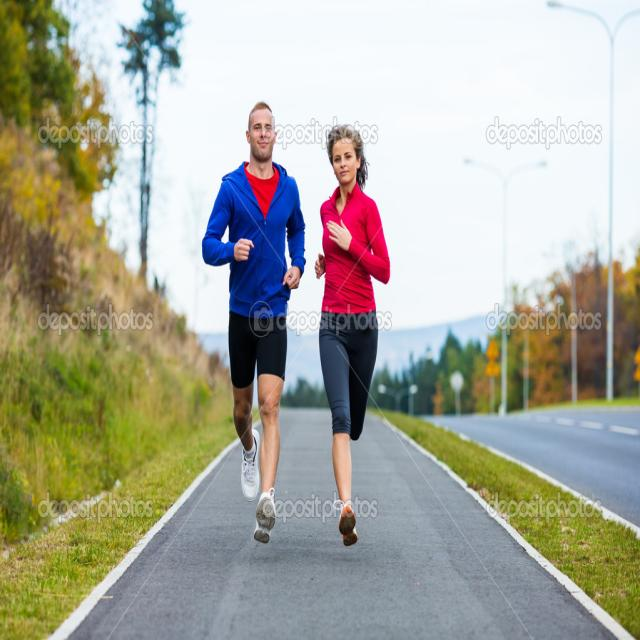Person: (204, 104, 306, 544), (314, 123, 390, 546)
